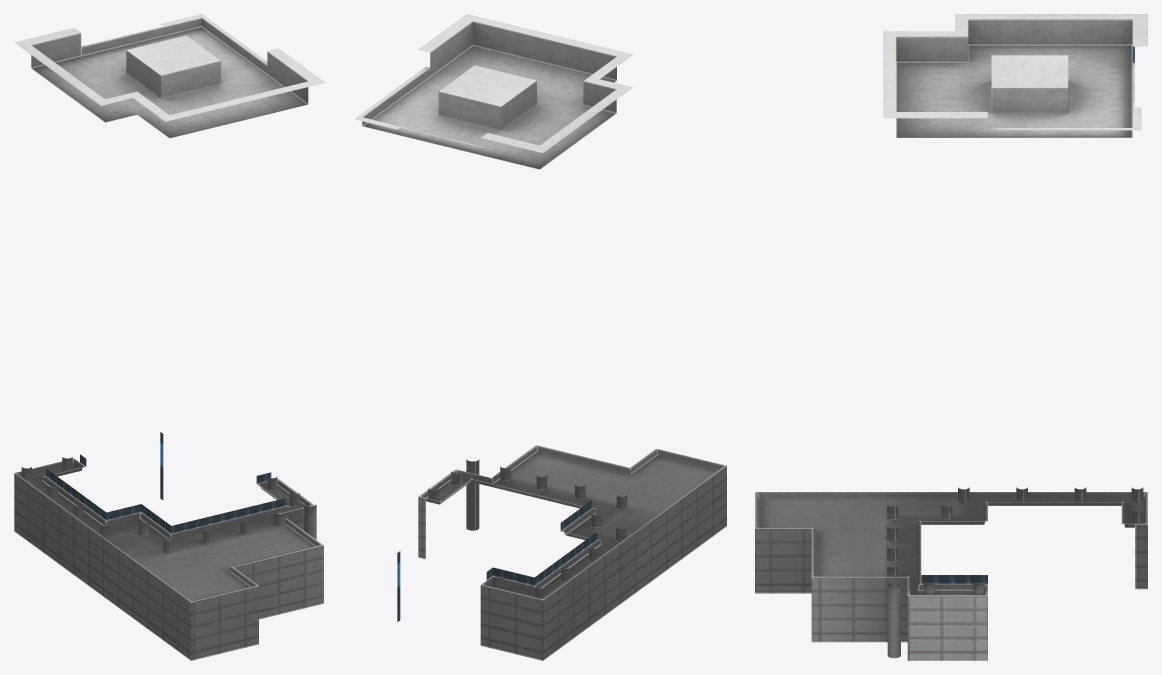
The picture shows the model from 3 angles, left to right: view 1: azimuth 30°, elevation 25°; view 2: azimuth 150°, elevation 25°; view 3: azimuth 270°, elevation 25°; orthographic projection. The views are drawn at different scales.
Parts seen in each view (by area): view 1: 1018; view 2: 1018; view 3: 1018.
Boxes of the visible parts, x1,y1,x2,y2 form: 1018: (14,14,325,660); 1018: (354,14,726,660); 1018: (755,14,1147,660).
Size of the model in its own units: 48 by 117 by 76.5.
Materials: 1 (1 with a texture image).
